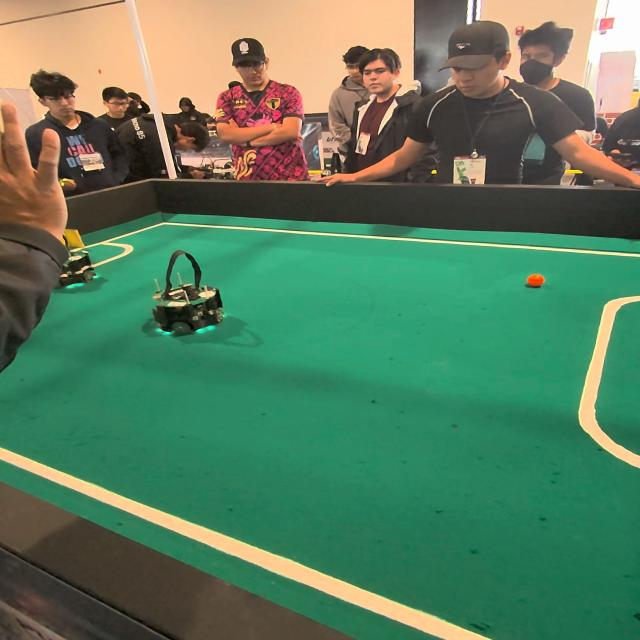Robot: (147, 246, 230, 346), (58, 233, 98, 290)
pelota: (526, 274, 544, 288)
